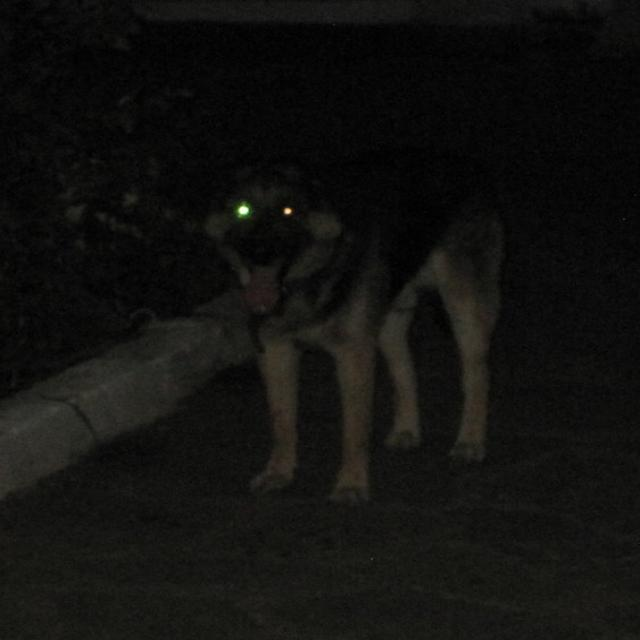Dog: (51, 168, 603, 512)
